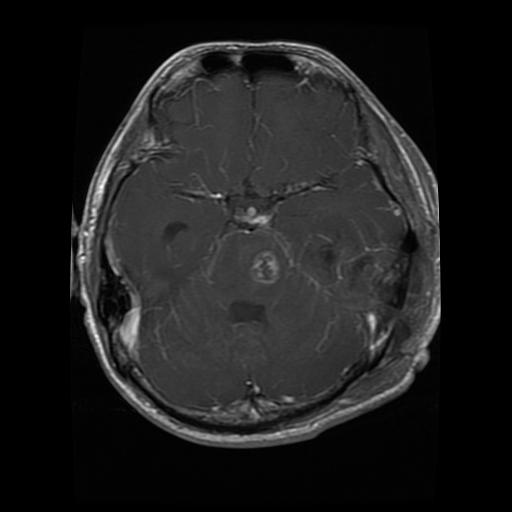Gliomia_tumour: (247, 248, 279, 284)
